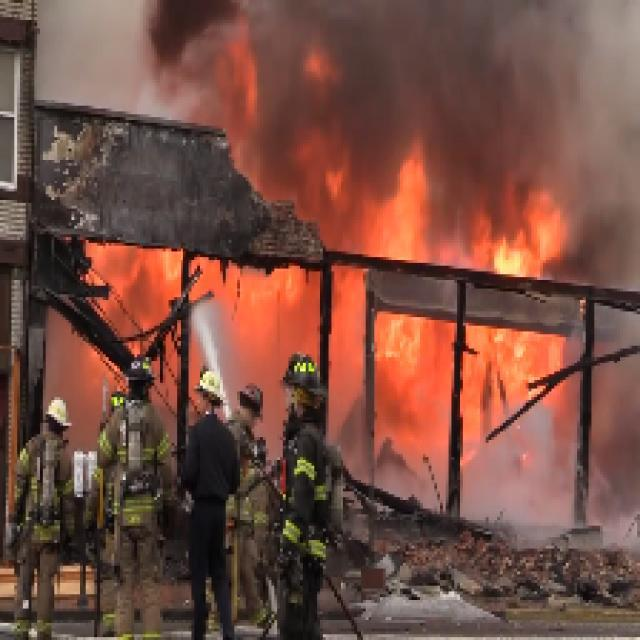Fire: (102, 254, 319, 364), (323, 322, 586, 394), (324, 191, 561, 266)
Smoke: (251, 4, 613, 142)
